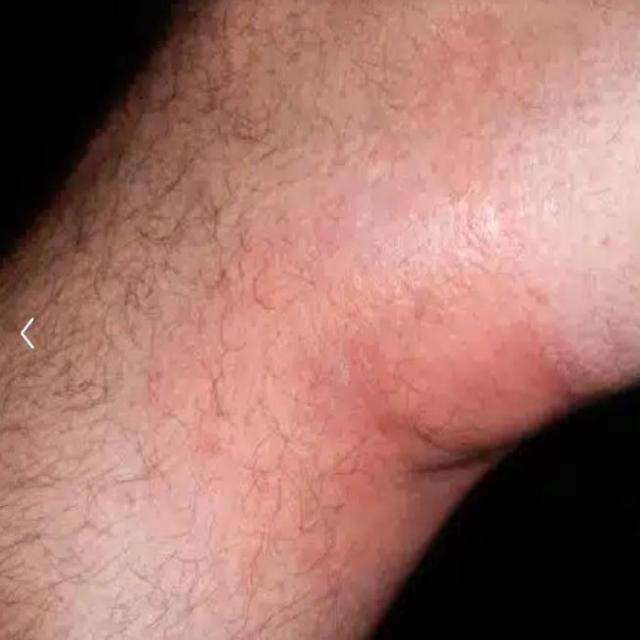Eczema: (312, 200, 512, 336)
